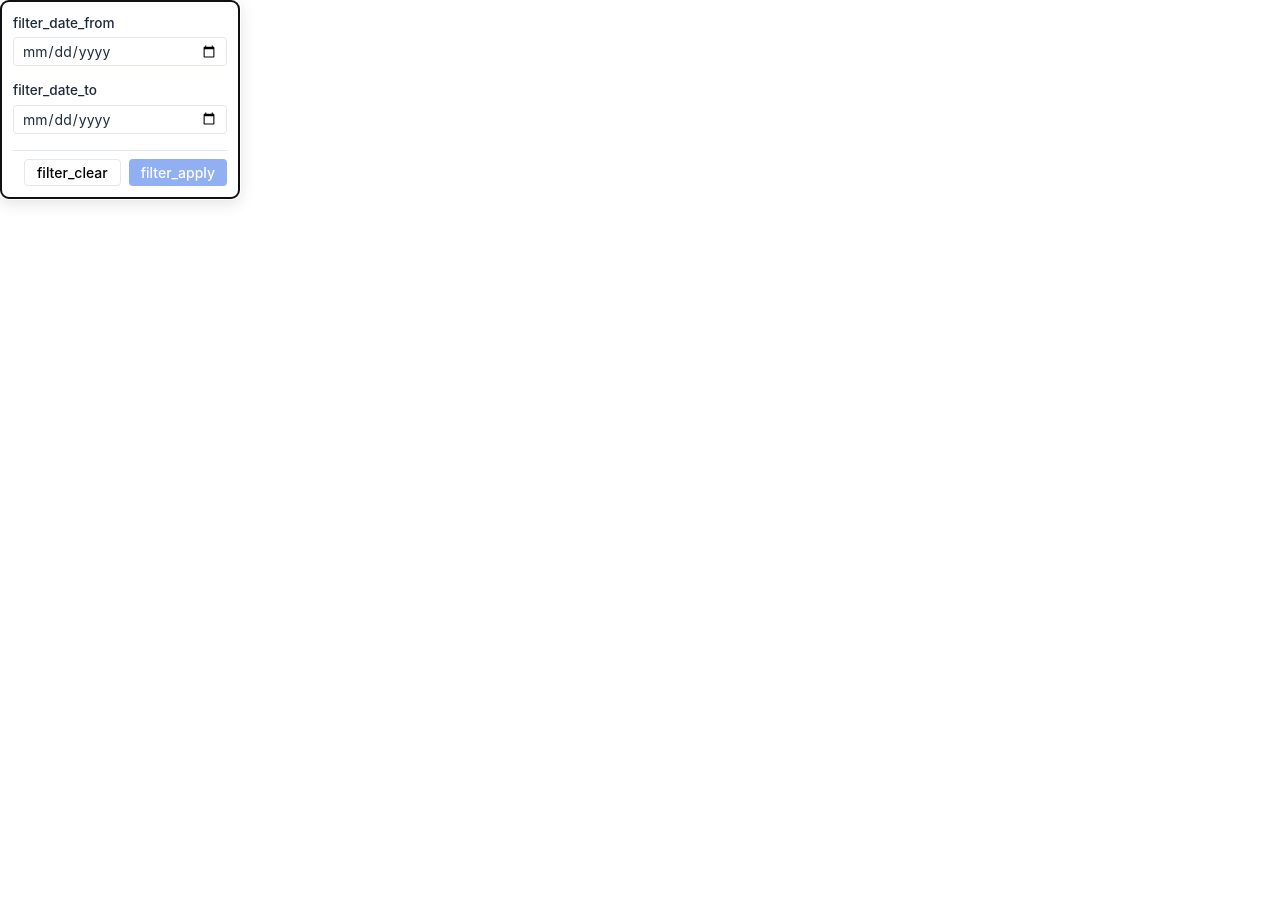
Scenario: DateRangeFilterDropdown › Apply is disabled when from > to (invalid range)
The image size is (1280, 900).
In the date field labelled "filter_date_from": point(120, 52) [13, 37, 227, 66], type "2024-12-31"
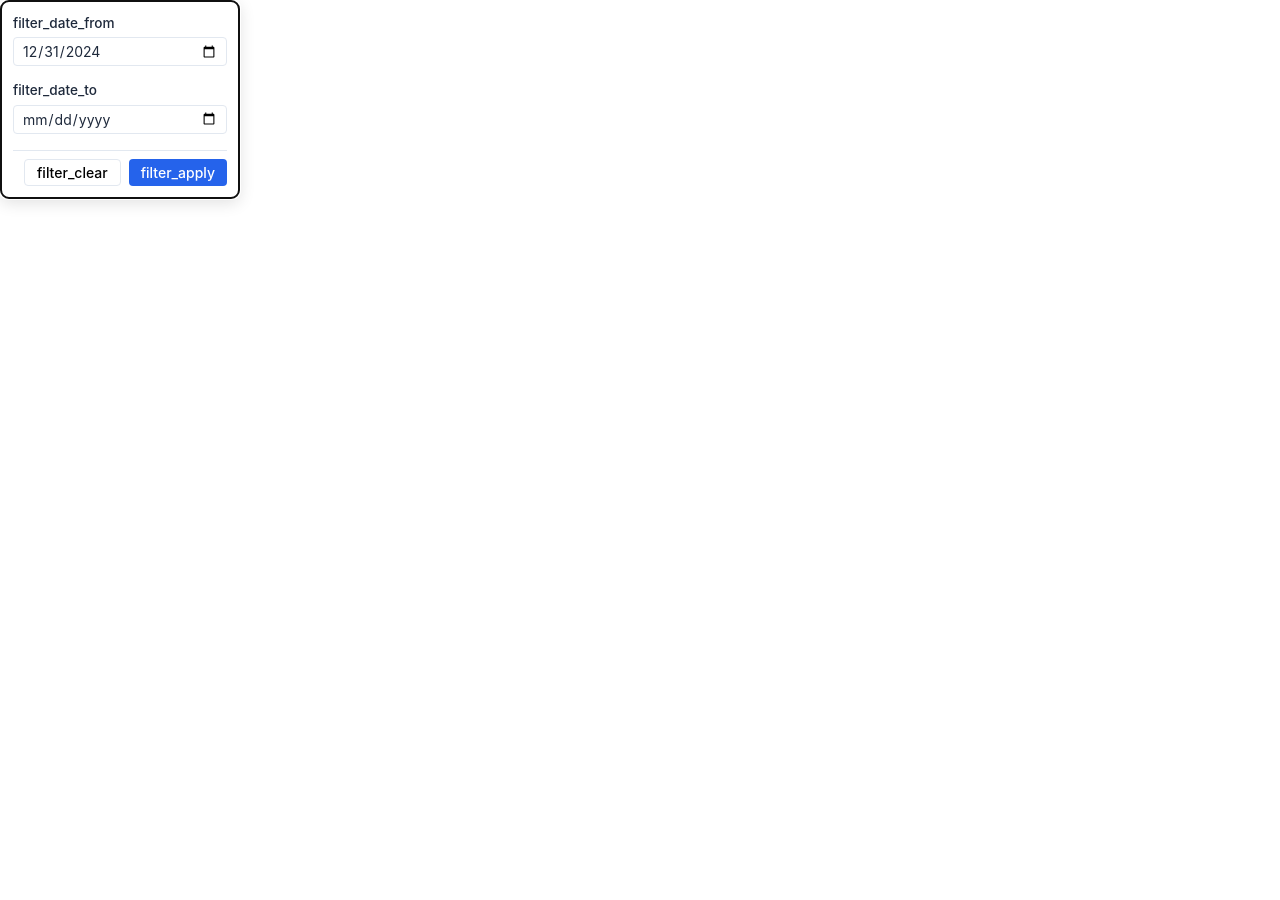
In the date field labelled "filter_date_to": point(120, 119) [13, 105, 227, 134], type "2024-01-01"
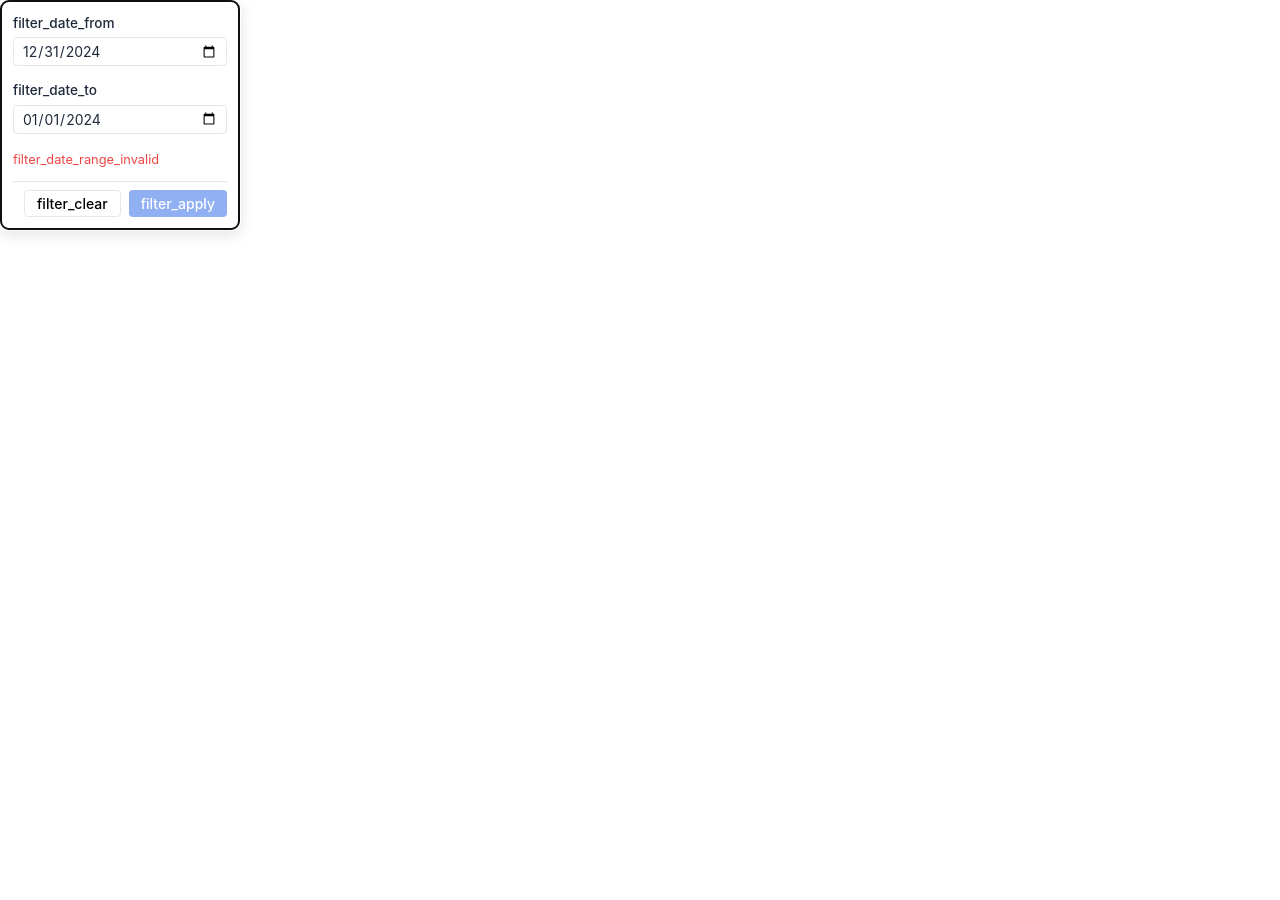
Now the button "filter_apply" is disabled, box [129, 190, 227, 217]
